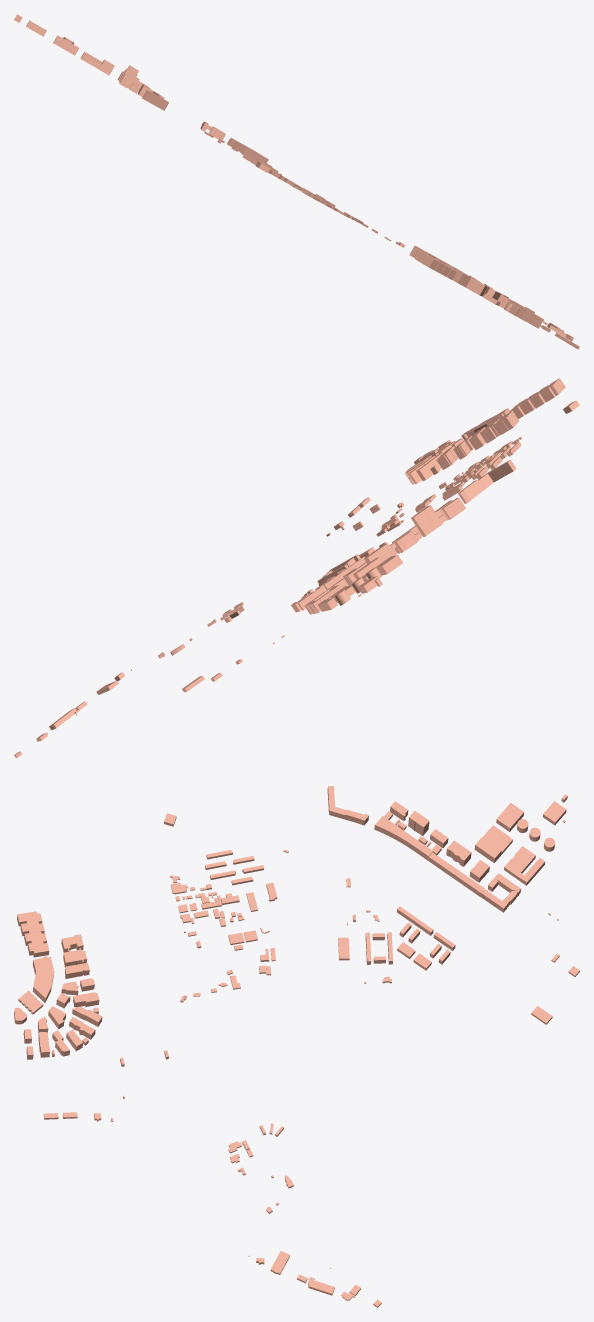
3 views of the same model, one above another, from view 1: azimuth 30°, elevation 25°; view 2: azimuth 150°, elevation 25°; view 3: azimuth 270°, elevation 25° (orthographic). The views are drawn at different scales.
Size of the model in its own units: 988 by 769 by 1196.
